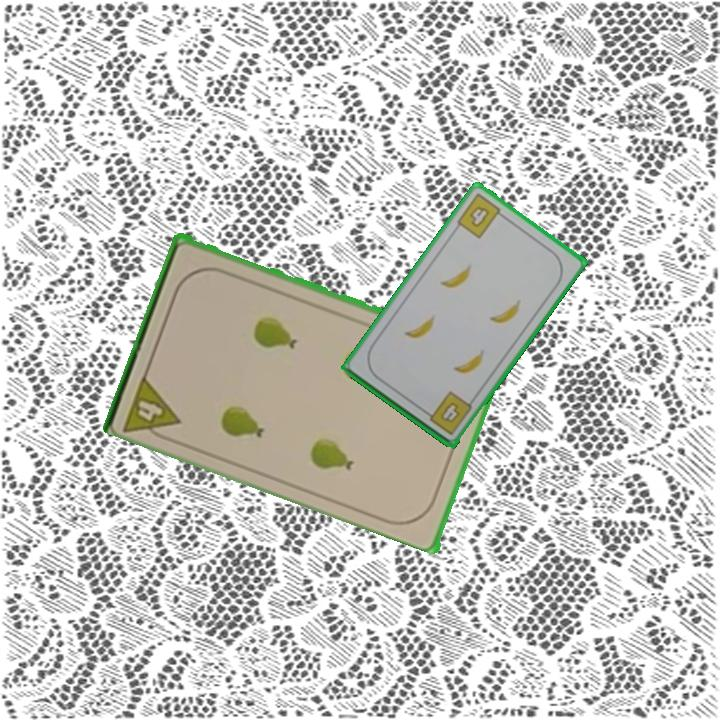4b: (453, 190, 509, 241), (420, 387, 475, 438)
4p: (119, 369, 185, 446)
